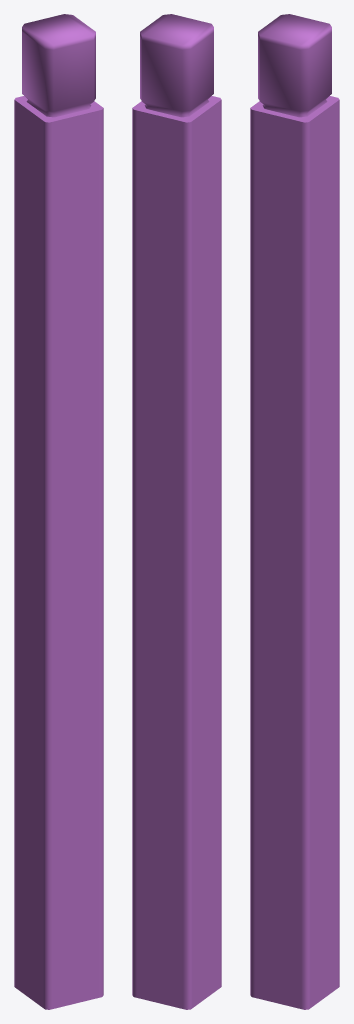
The model's file is BrickHouse_Deco_IntColumn_B.fbx.
The picture shows the model from 3 angles, left to right: view 1: azimuth 30°, elevation 25°; view 2: azimuth 150°, elevation 25°; view 3: azimuth 330°, elevation 25°; orthographic projection.
Parts seen in each view (by area): view 1: BrickHouse_Deco_IntColumn_B; view 2: BrickHouse_Deco_IntColumn_B; view 3: BrickHouse_Deco_IntColumn_B.
Part boxes in pixels (left/top/right/bottom): BrickHouse_Deco_IntColumn_B: left=14, top=14, right=103, bottom=1009; BrickHouse_Deco_IntColumn_B: left=132, top=14, right=221, bottom=1009; BrickHouse_Deco_IntColumn_B: left=250, top=14, right=339, bottom=1009.
Bounding box in the file's own units: 0.4 × 6.28 × 0.4.
